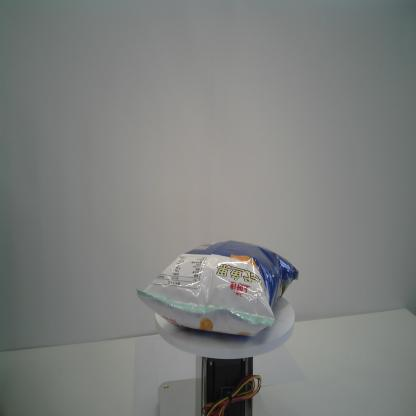Puffed Food: (136, 239, 299, 337)
